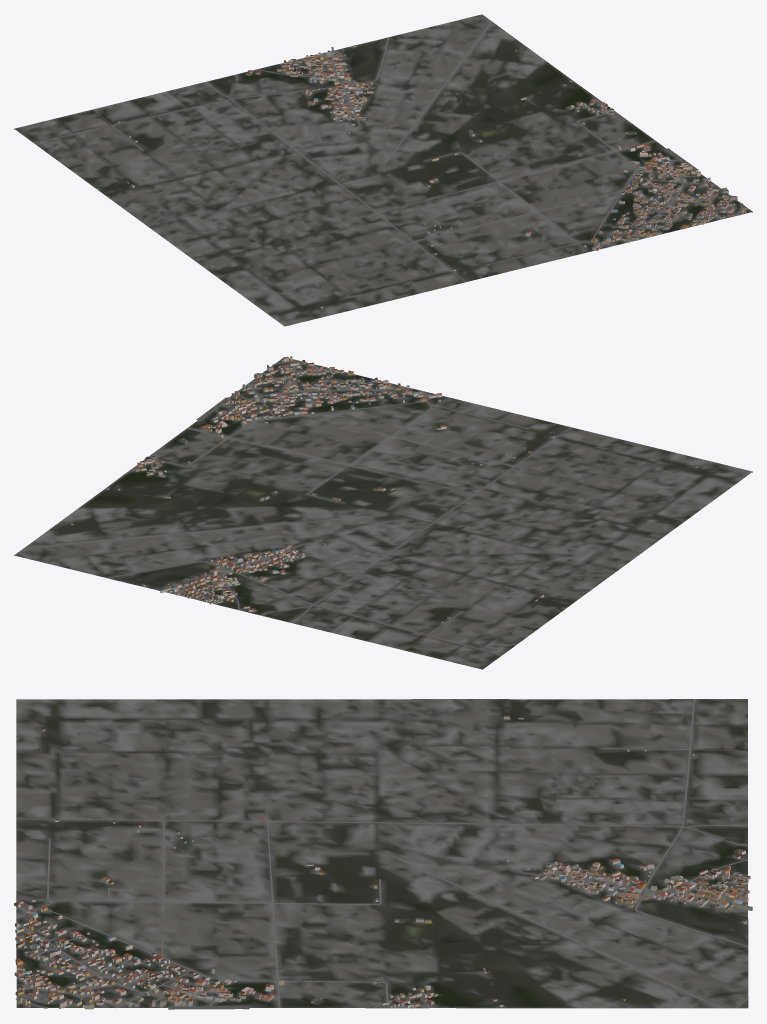
3 renders of one model, top to bottom at view 1: azimuth 30°, elevation 25°; view 2: azimuth 150°, elevation 25°; view 3: azimuth 270°, elevation 25°, orthographic. The views are drawn at different scales.
Visible parts, largest first — view 1: ground, buildings, roads; view 2: ground, buildings, roads; view 3: ground, buildings, roads.
Boxes of the visible parts, <box> form: ground: <box>14,14,752,326</box>; buildings: <box>117,45,746,307</box>; roads: <box>34,17,743,282</box>; ground: <box>14,357,752,669</box>; buildings: <box>71,356,696,634</box>; roads: <box>18,360,571,655</box>; ground: <box>16,699,748,1008</box>; buildings: <box>14,715,752,1009</box>; roads: <box>16,699,748,1009</box>.
Bounding box in the file's own units: 1410 × 14.08 × 1416.
